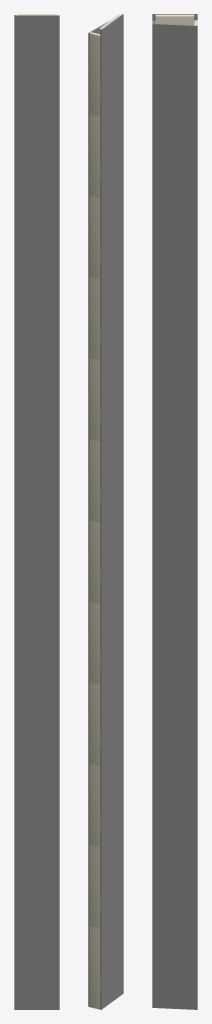
Rendered from 2026_ARC_3v3_outer_wall_top.gltf.
3 renders of one model, left to right at view 1: azimuth 90°, elevation 25°; view 2: azimuth 150°, elevation 25°; view 3: azimuth 270°, elevation 25°, orthographic.
Visible parts, largest first — view 1: Exterior Wall (×6), Surface 134, Surface 137, Surface 140, Surface 143, Surface 146, Surface 147; view 2: Exterior Wall (×18), Exterior Wall Base (×12), Surface 137, Surface 143, Surface 140, Surface 146, Surface 147, Surface 134; view 3: Exterior Wall (×12), Structure.
Part boxes in pixels (left/top/right/bottom): Exterior Wall (×6): left=14, top=15, right=59, bottom=515; Surface 134: left=14, top=515, right=59, bottom=597; Surface 137: left=14, top=598, right=59, bottom=680; Surface 140: left=14, top=680, right=59, bottom=762; Surface 143: left=14, top=763, right=59, bottom=845; Surface 146: left=14, top=845, right=59, bottom=927; Surface 147: left=14, top=927, right=59, bottom=1009; Exterior Wall (×18): left=88, top=14, right=123, bottom=1006; Exterior Wall Base (×12): left=89, top=32, right=100, bottom=1009; Surface 137: left=100, top=588, right=123, bottom=685; Surface 143: left=100, top=750, right=123, bottom=847; Surface 140: left=100, top=669, right=123, bottom=766; Surface 146: left=100, top=831, right=123, bottom=928; Surface 147: left=100, top=913, right=123, bottom=1009; Surface 134: left=100, top=507, right=123, bottom=603; Exterior Wall (×12): left=152, top=23, right=197, bottom=1009; Structure: left=155, top=14, right=194, bottom=25.
Bounding box in the file's own units: 0.1689 × 12.07 × 0.5.
